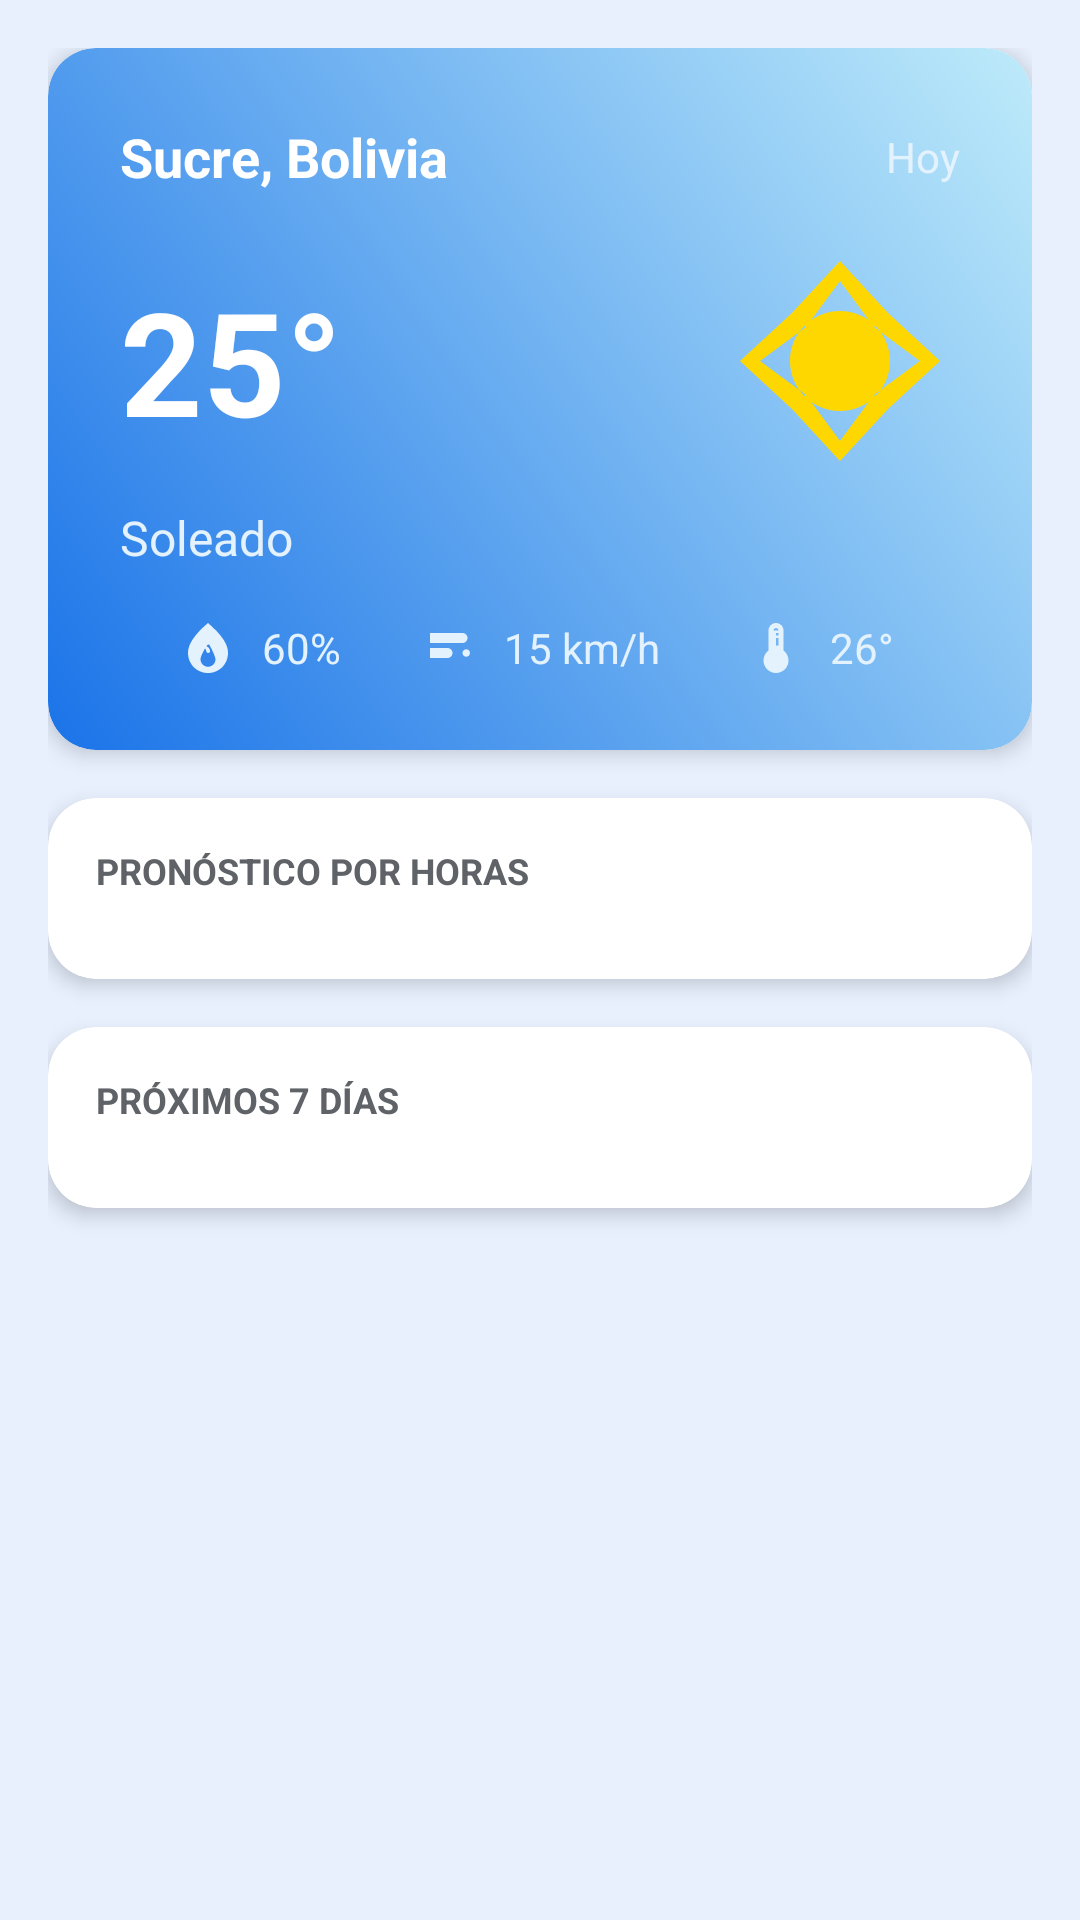

Icons on this 1080px×1920px Android screen, each with the point to tap as [x,y]:
Clima actual: [840,361]
Humedad: [208,648]
Sensación térmica: [776,648]
Viento: [450,645]
